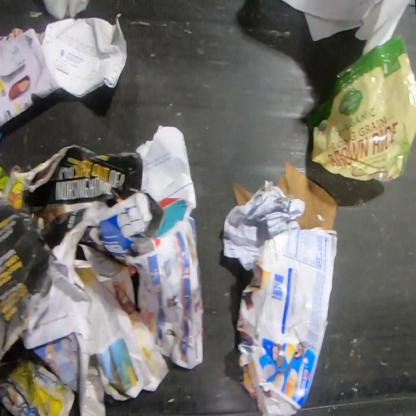cardboard: (236, 227, 339, 415), (276, 159, 336, 231)
soft_plastic: (311, 32, 415, 188)
